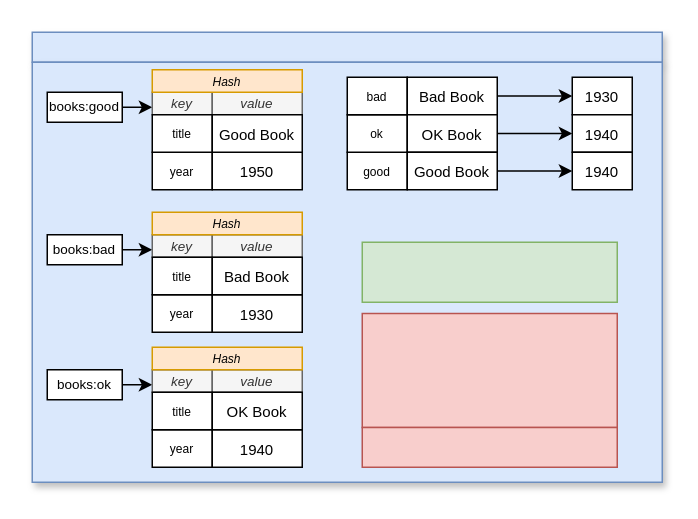
The diagram is 698 pixels wide and 519 high, and some of its shapes have lost their labels. The shapes that lost their labels are listed below. From the top down, each one's centre as x and y in pixels, then its label:
the point at 348,49: Redis
the point at 489,271: books:*->title
the point at 489,370: Same thing, but put the 'GET' field on the LEFT side
the point at 489,446: Step #3
